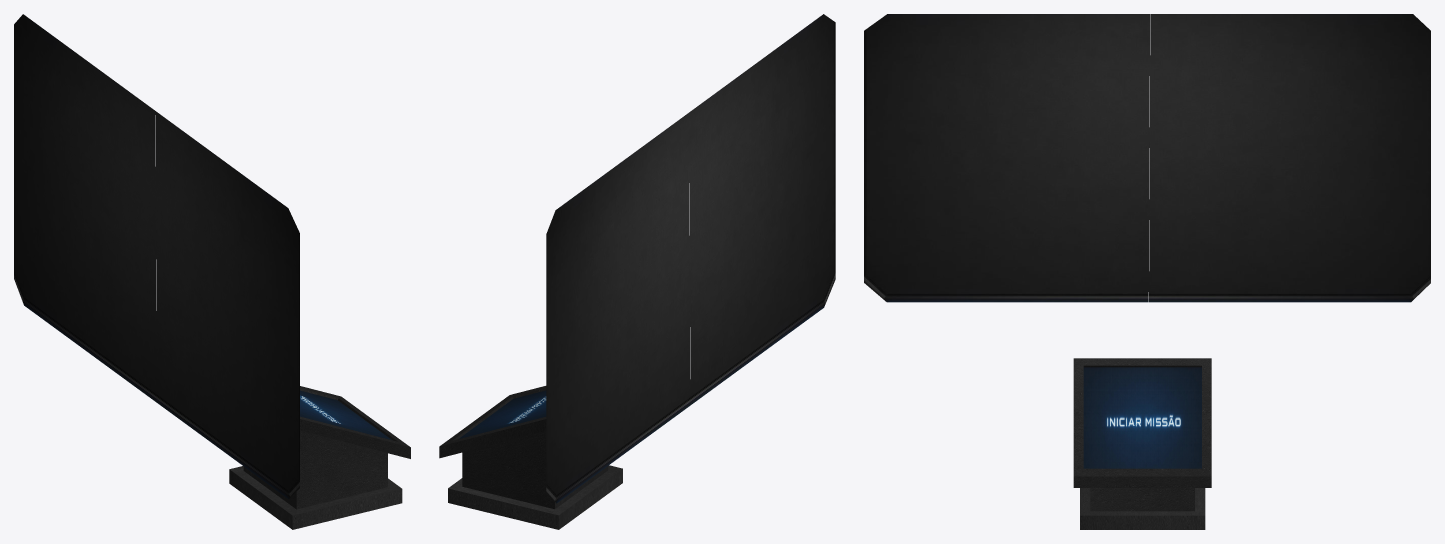
File: totem.glb
3 renders of one model, left to right at view 1: azimuth 30°, elevation 25°; view 2: azimuth 150°, elevation 25°; view 3: azimuth 270°, elevation 25°, orthographic. The views are drawn at different scales.
Visible parts, largest first — view 1: PortaEsquerda, PortaDireita, TotemClique; view 2: PortaEsquerda, PortaDireita, TotemClique; view 3: PortaEsquerda, PortaDireita, TotemClique.
Part boxes in pixels (x1,y1,x2,y2): PortaEsquerda: (155, 111, 299, 498); PortaDireita: (14, 14, 156, 401); TotemClique: (229, 386, 410, 529); PortaEsquerda: (689, 14, 835, 405); PortaDireita: (546, 112, 690, 503); TotemClique: (439, 386, 622, 529); PortaEsquerda: (864, 14, 1149, 302); PortaDireita: (1149, 14, 1430, 302); TotemClique: (1073, 358, 1211, 529).
Size of the model in its own units: 3.16 by 5.83 by 7.24.
Materials: 3 (3 with a texture image).
